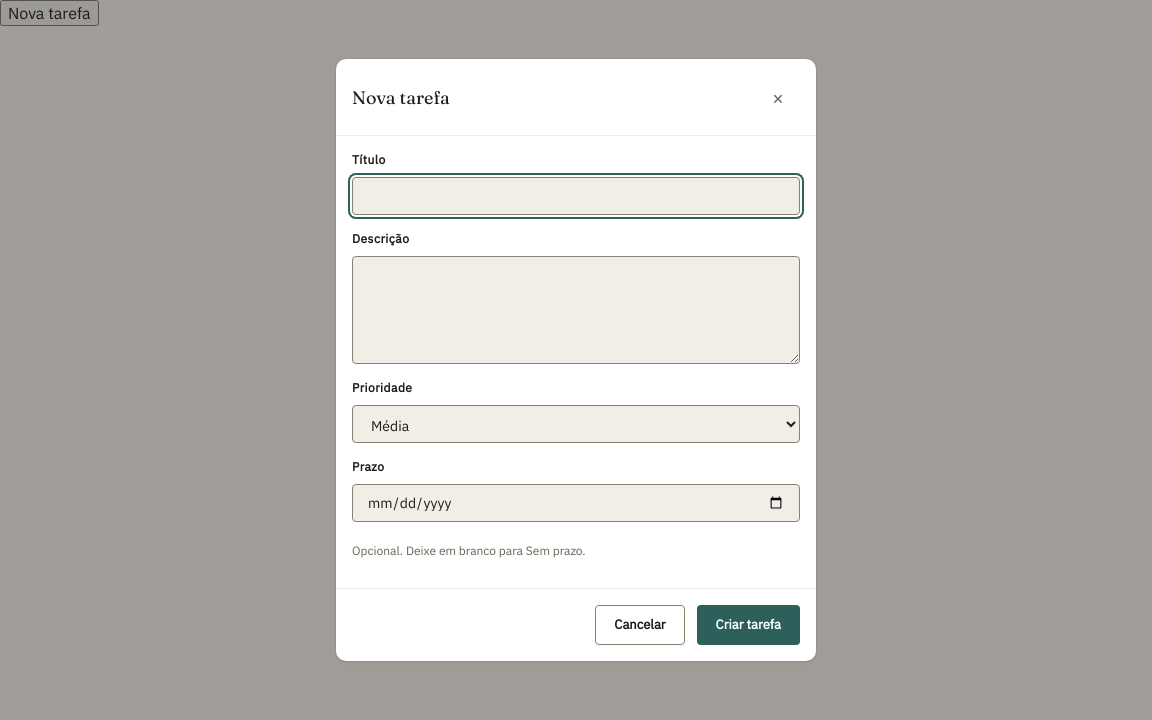
Scenario: TaskFormDialog › maps a ValidationProblemDetails server error to the matching field, inline
In the field labelled "Título": (576, 196) [352,177,800,215], type "Comprar leite"
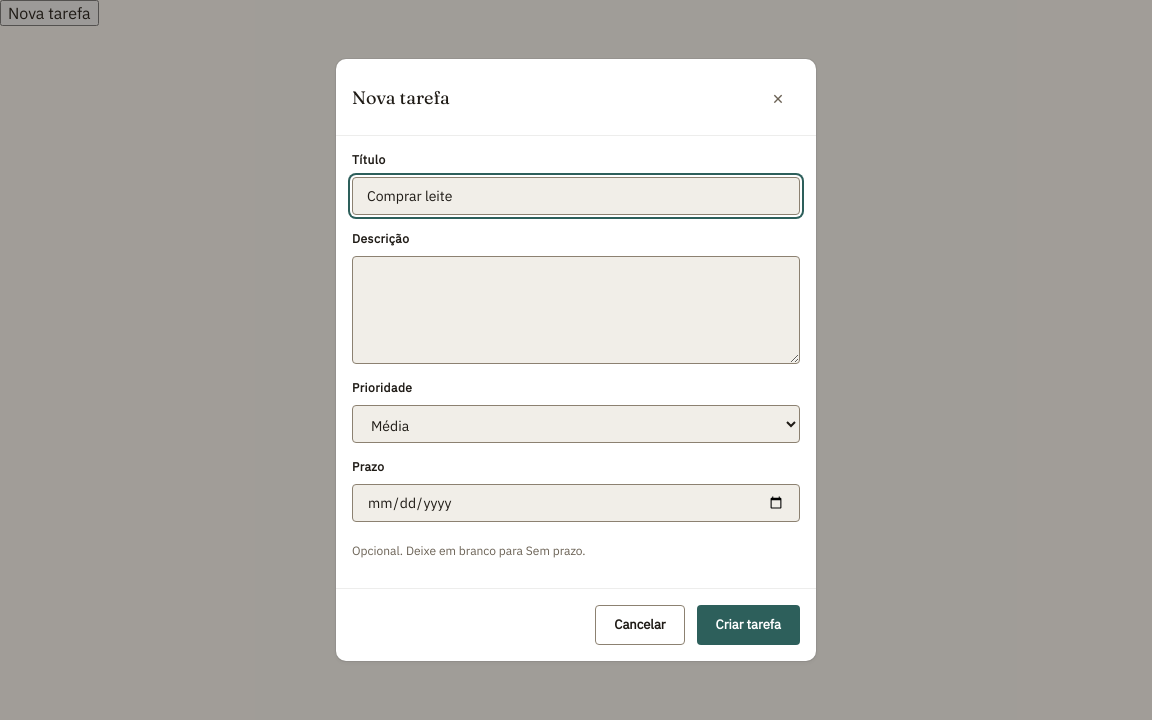
Click the button "Criar tarefa": click(748, 625) [697,605,800,645]
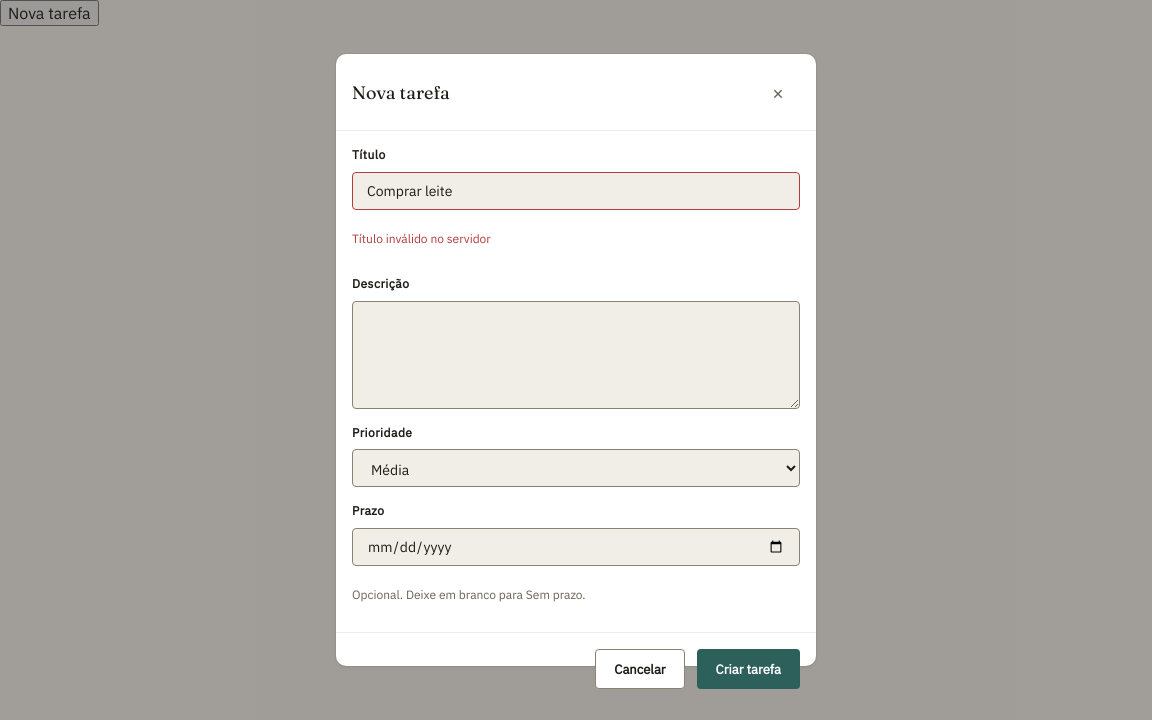
Now the text "Título inválido no servidor" is shown, box [352,231,491,246]
